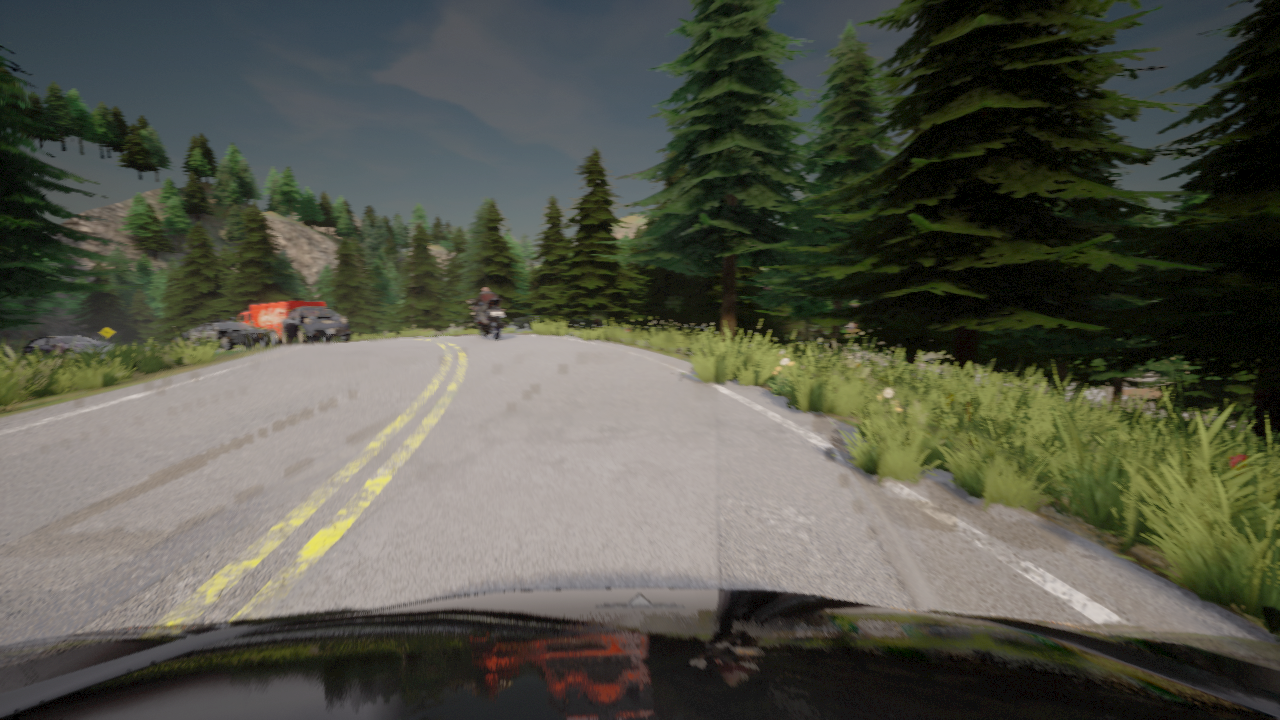cyclist: (0, 588, 1279, 719), (231, 301, 325, 348), (181, 318, 271, 350), (282, 307, 350, 344), (23, 335, 113, 356), (468, 298, 505, 339)
